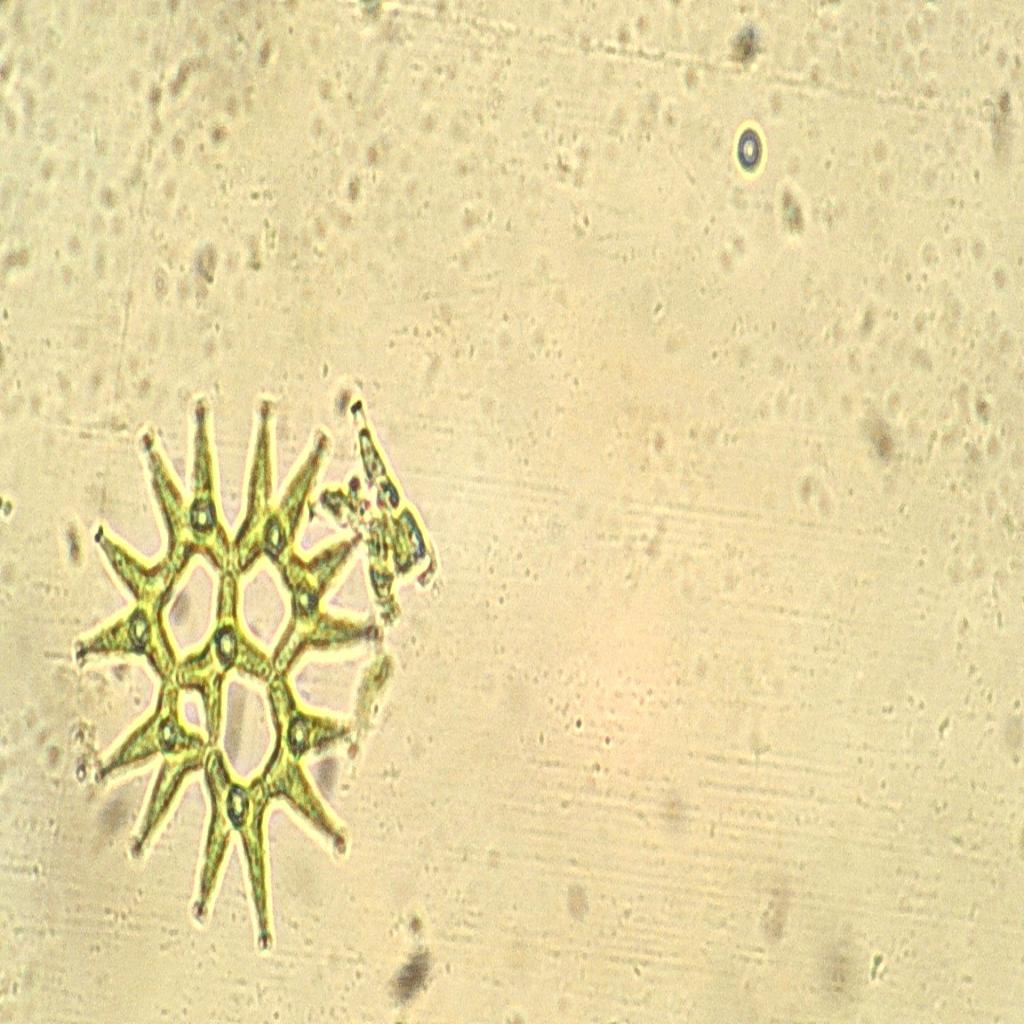Pediastrum_1T: (55, 378, 393, 963)
